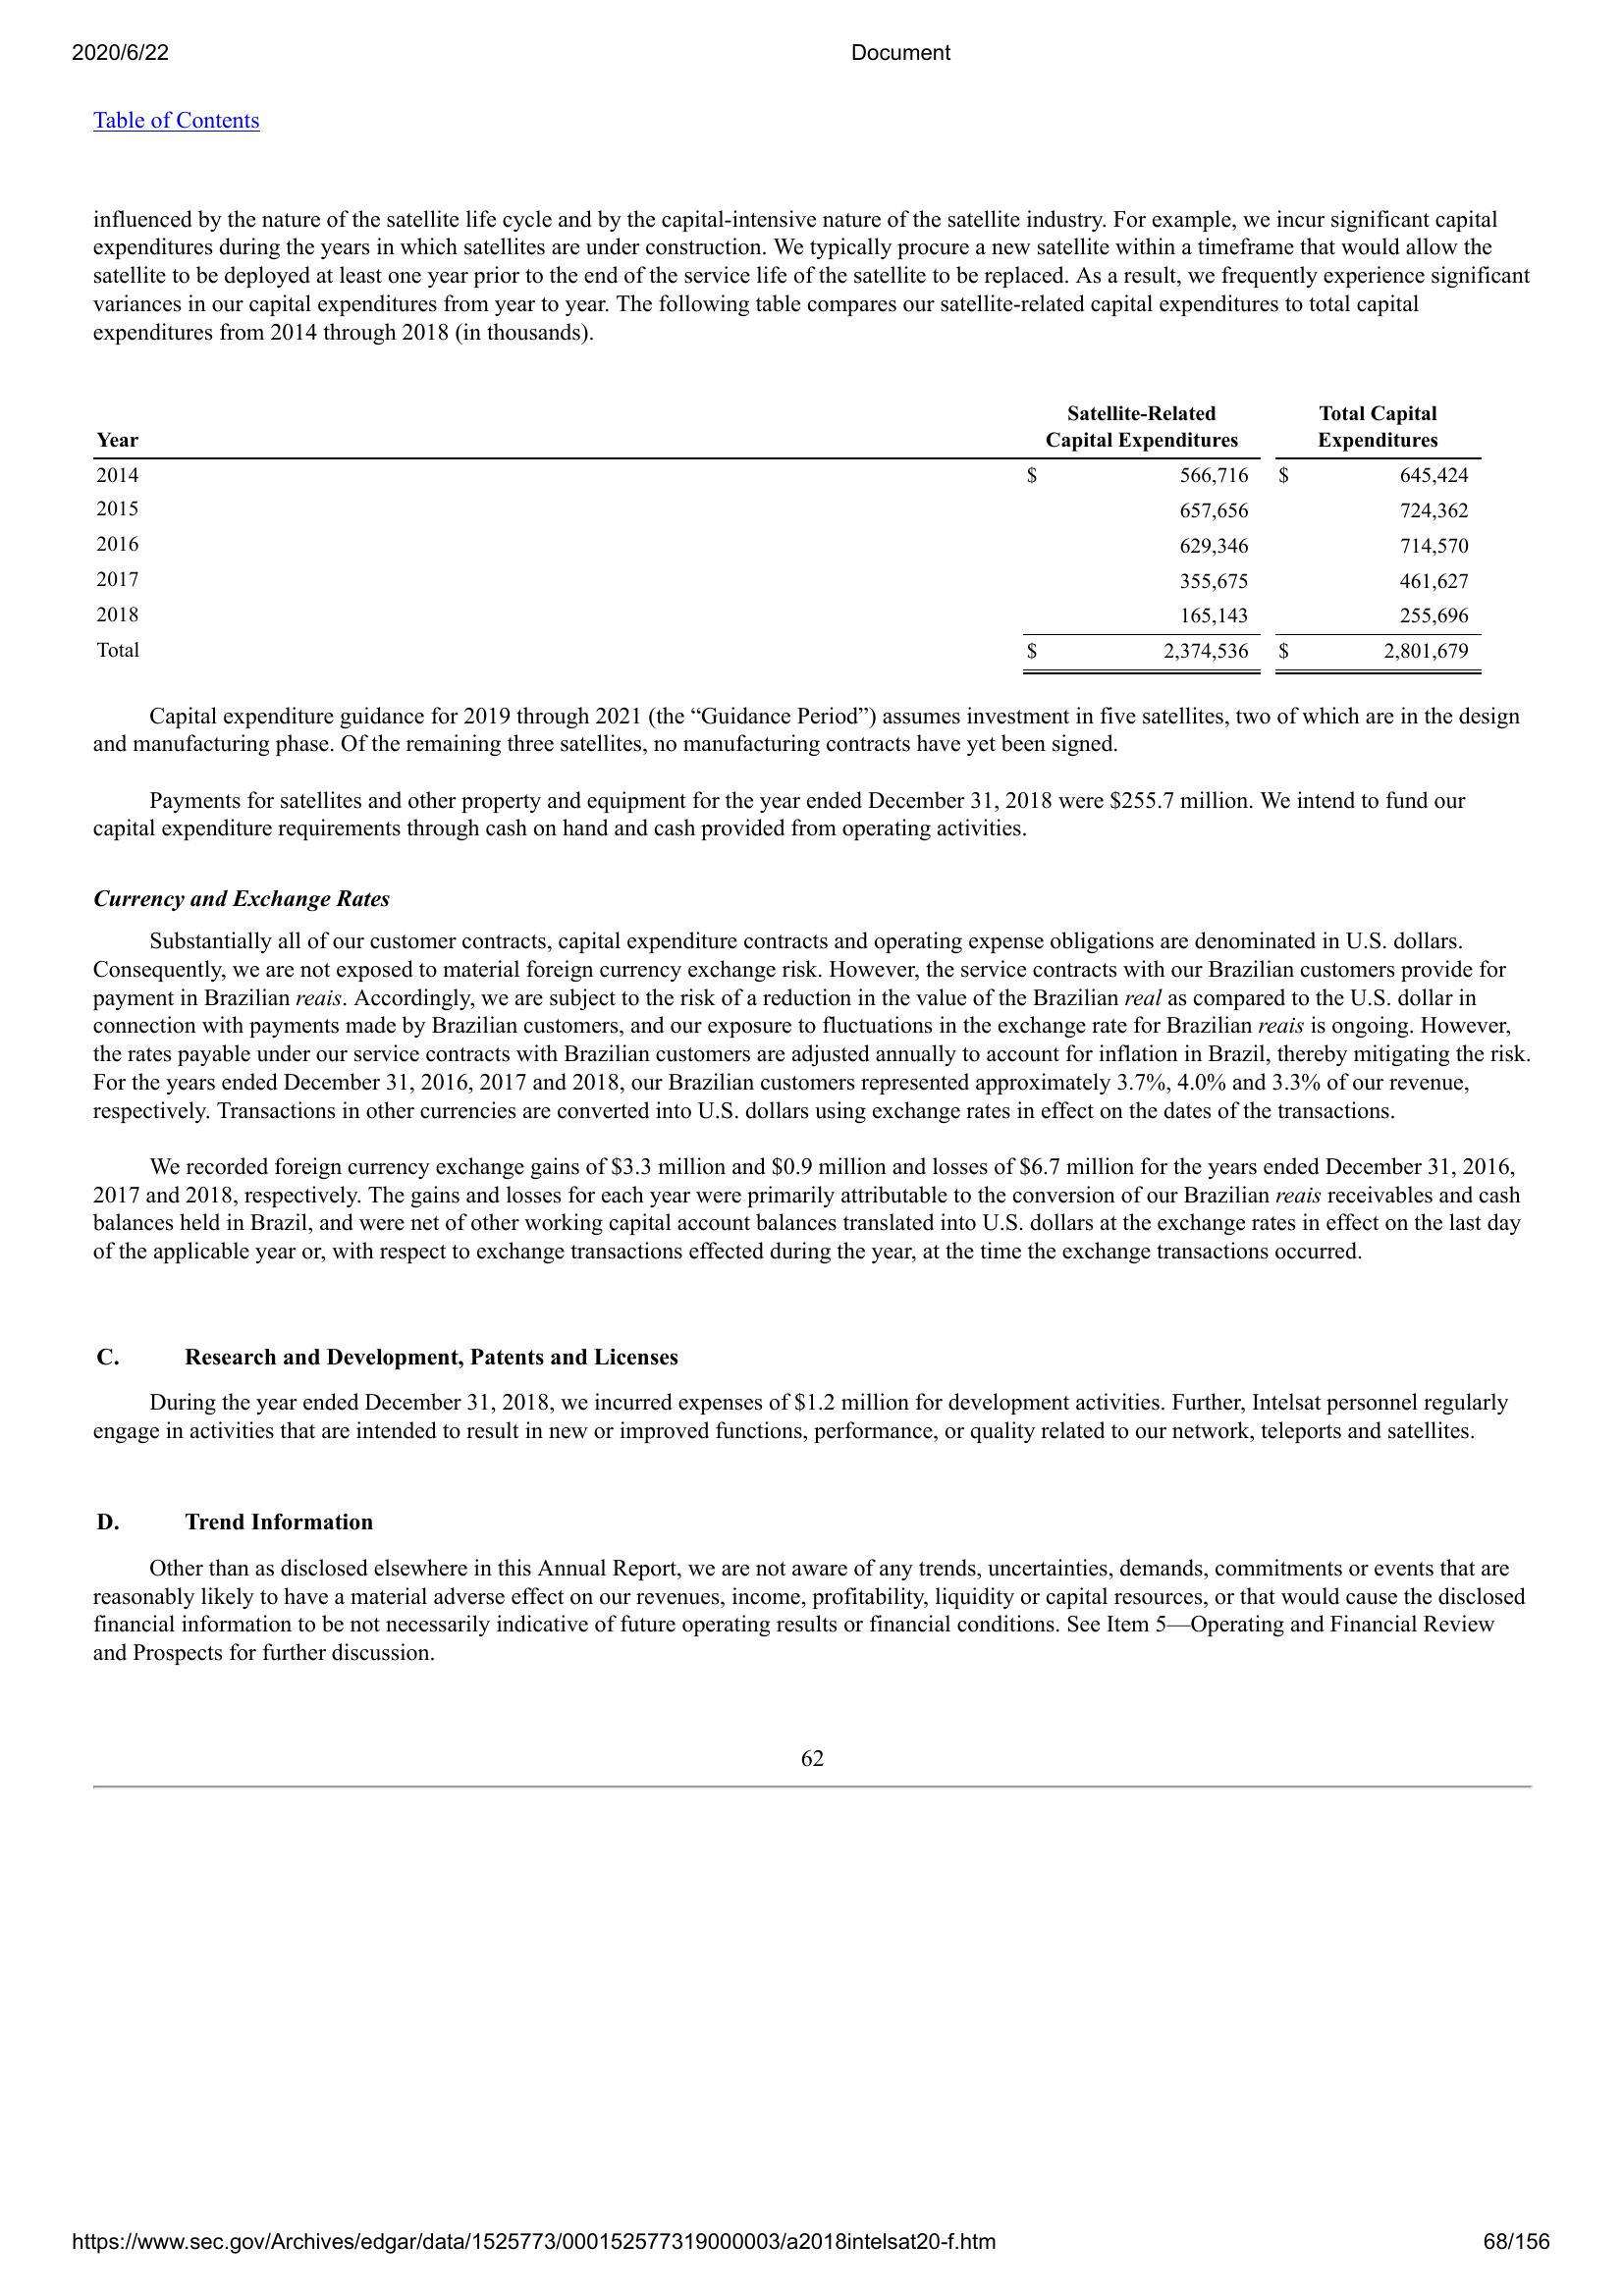table: (88, 405, 1493, 683)
